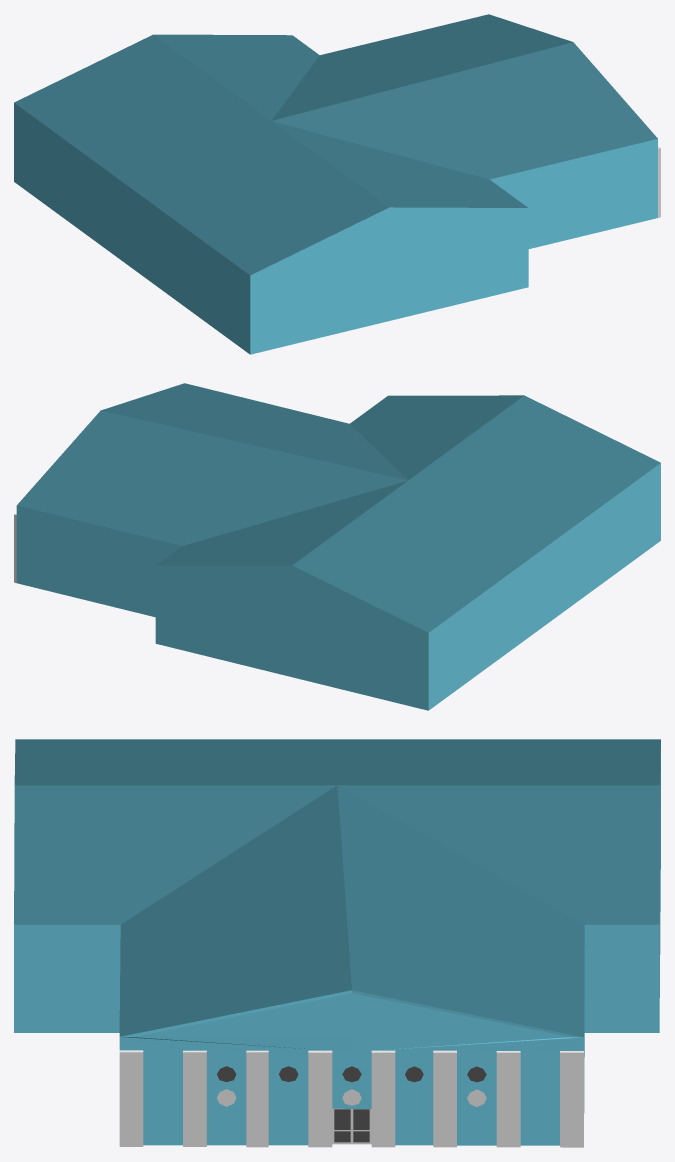
Rendered from Голубой Алтай.glb.
3 renders of one model, top to bottom at view 1: azimuth 30°, elevation 25°; view 2: azimuth 150°, elevation 25°; view 3: azimuth 270°, elevation 25°, orthographic. The views are drawn at different scales.
Parts seen in each view (by area): view 1: Голубой Алтай; view 2: Голубой Алтай; view 3: Голубой Алтай.
Boxes of the visible parts, left/top/right/bottom form: Голубой Алтай: left=14, top=14, right=660, bottom=354; Голубой Алтай: left=14, top=383, right=660, bottom=710; Голубой Алтай: left=14, top=739, right=660, bottom=1147.
Bounding box in the file's own units: 47.52 × 11.47 × 43.34.
